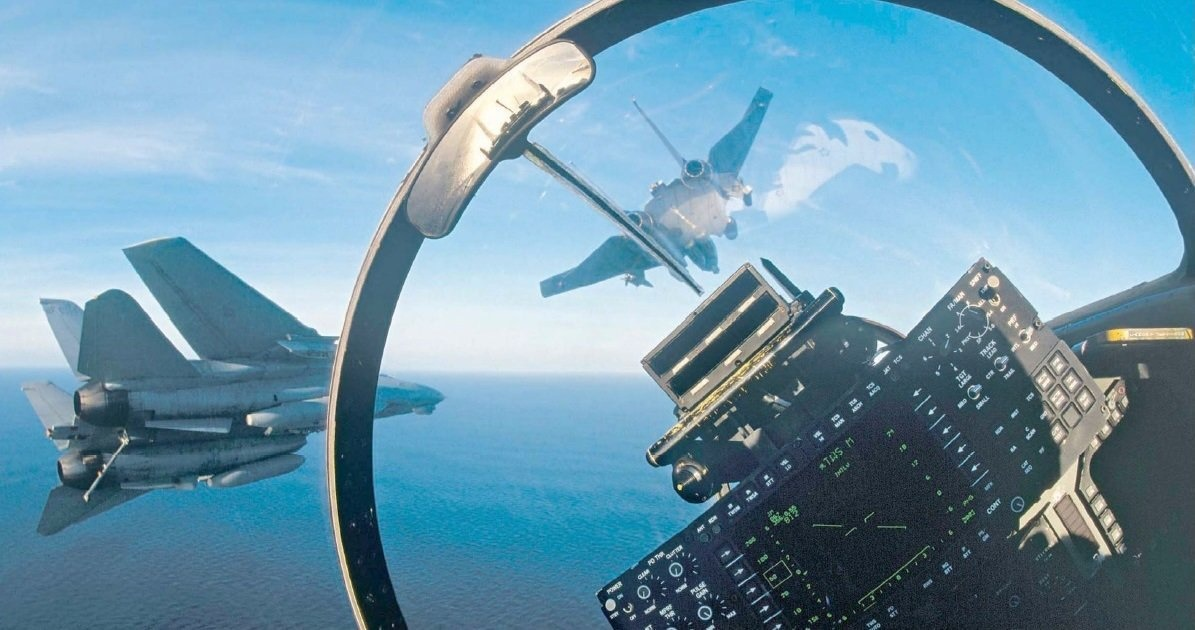F14: (16, 235, 449, 538), (539, 86, 774, 298)
